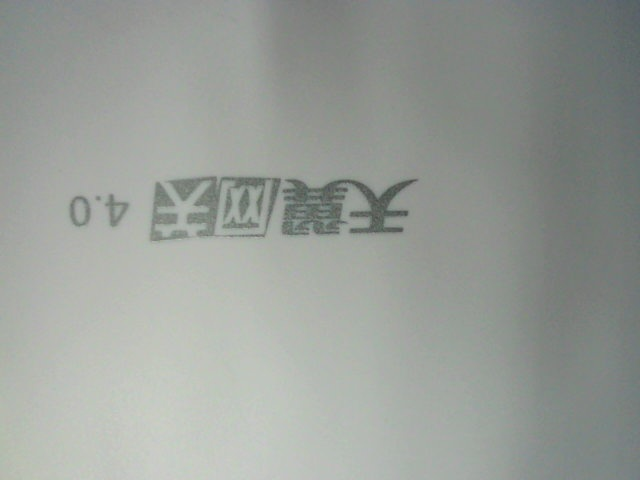BM_TianYiWangGuan: (63, 168, 421, 247)
